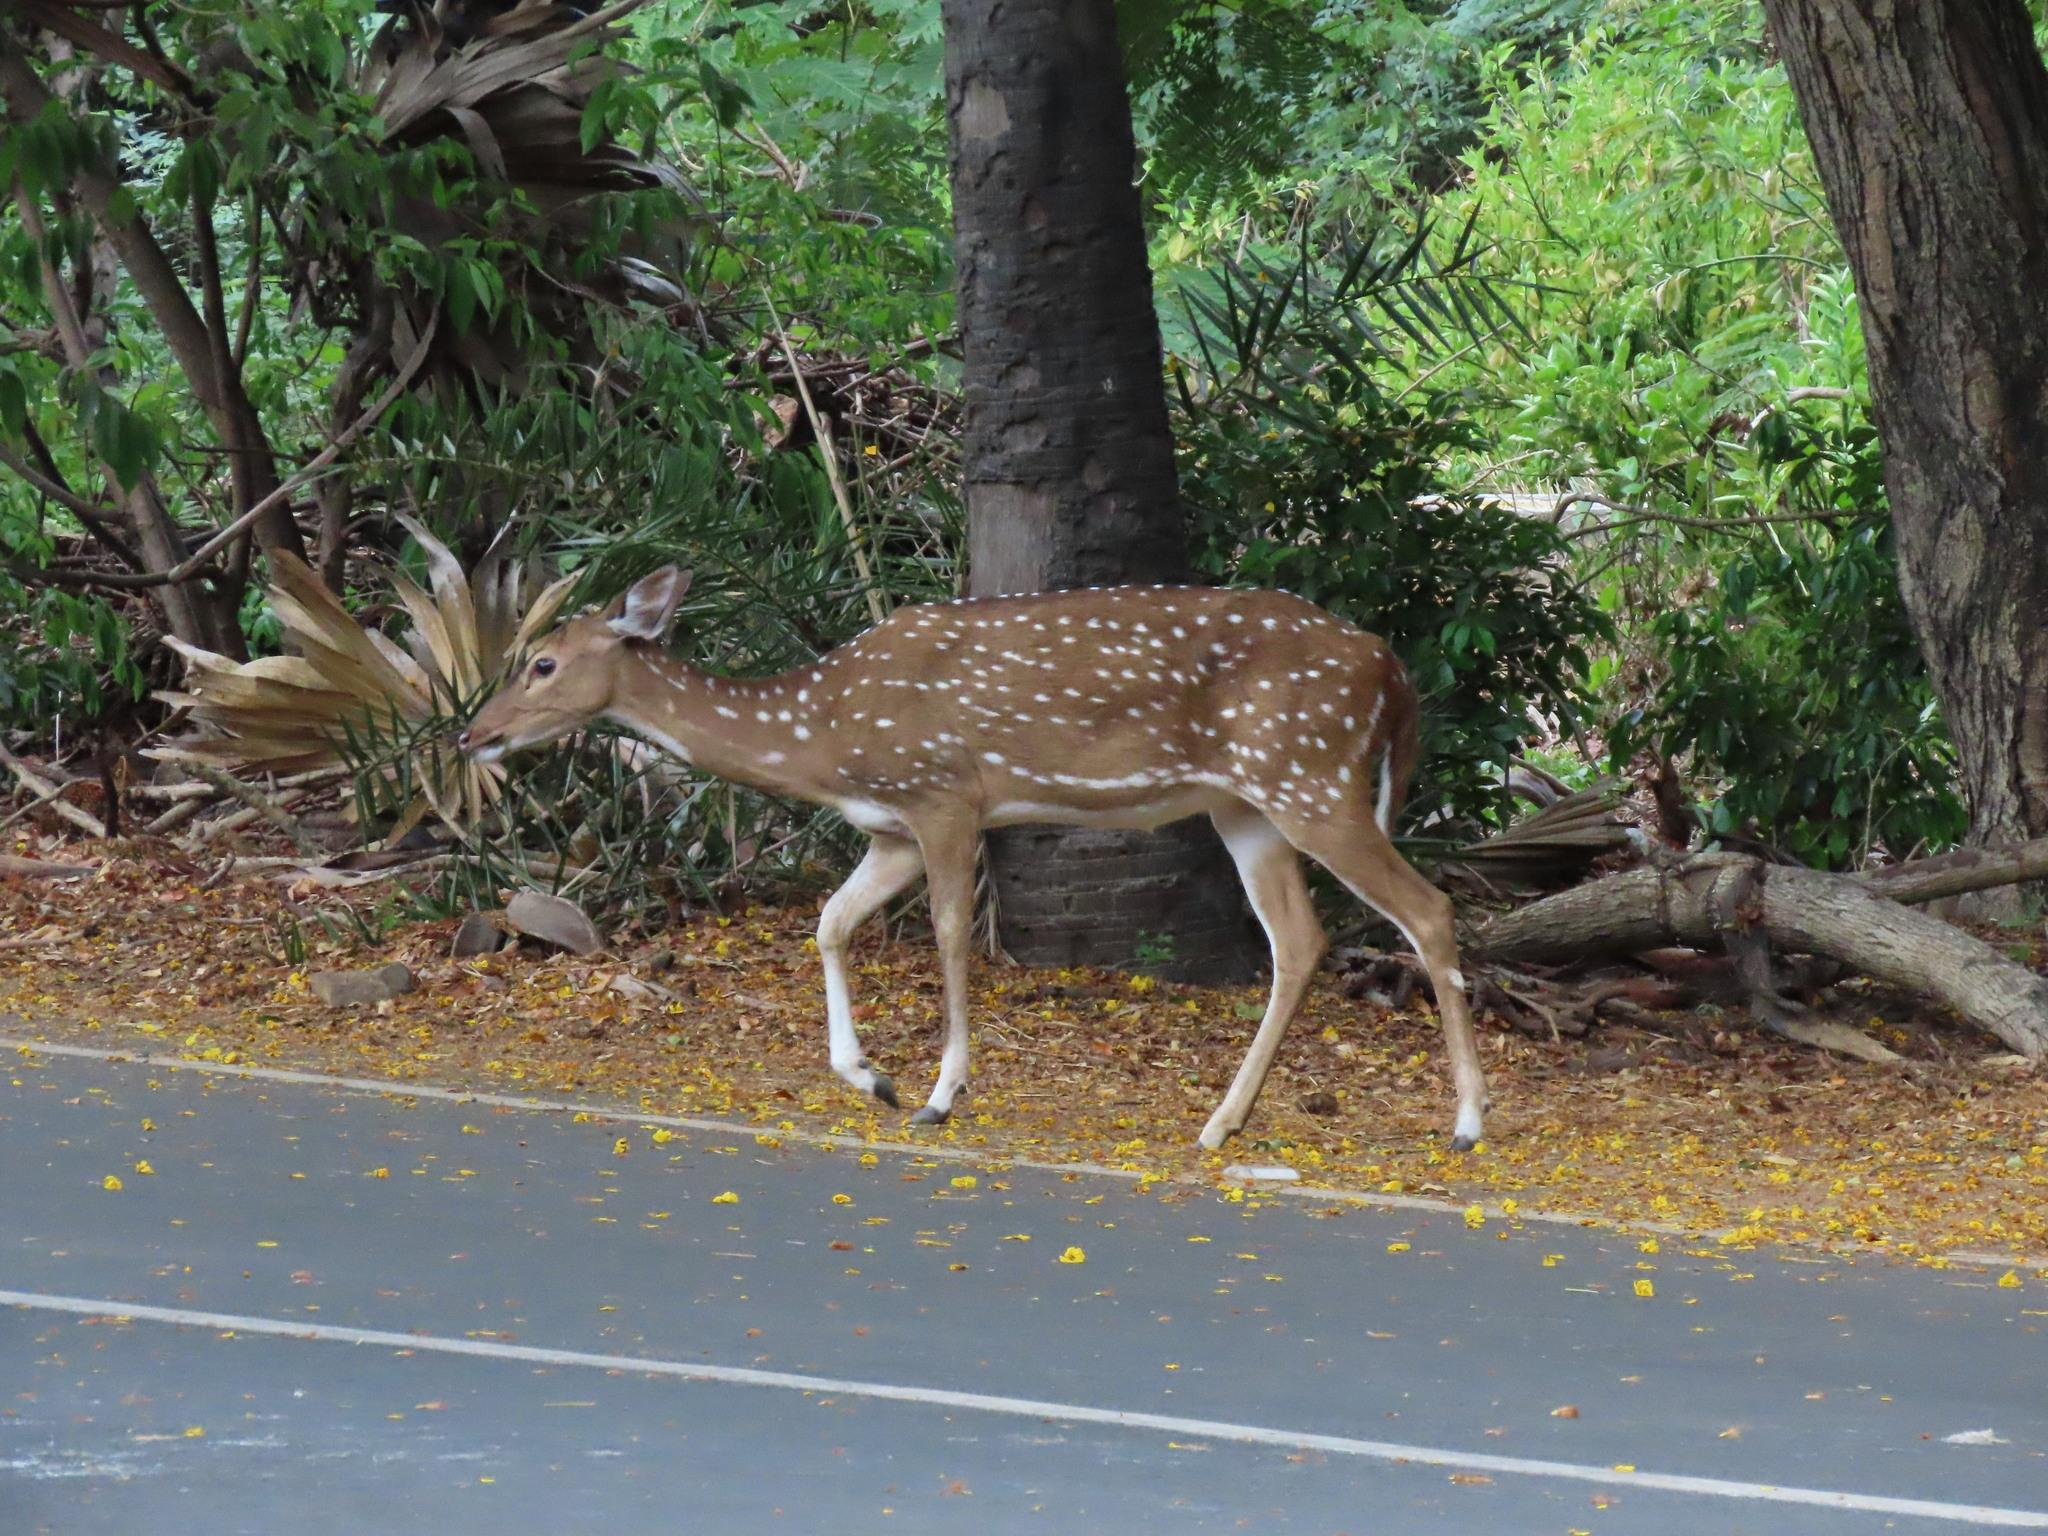Deer: (464, 566, 1485, 1149)
